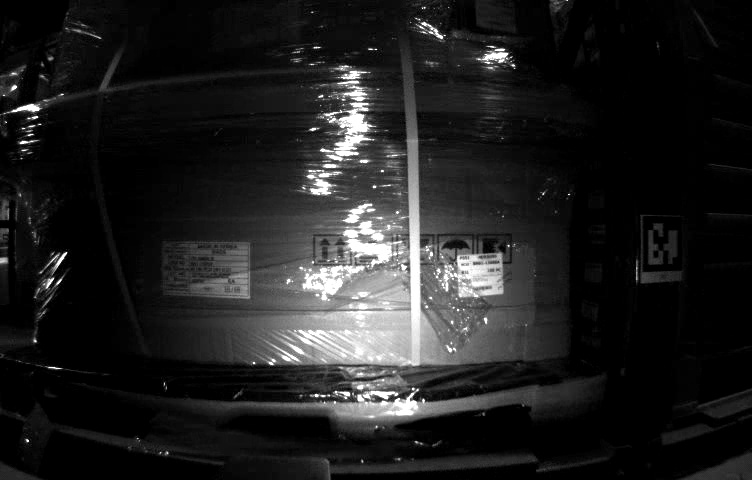True Barcode: (456, 250, 504, 296)
